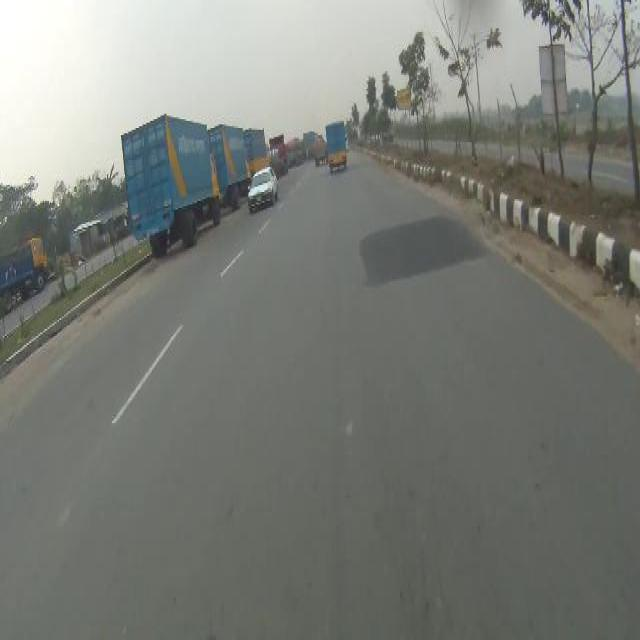car: (248, 168, 276, 212), (345, 134, 347, 150)
pickup: (122, 116, 222, 250), (211, 125, 249, 209), (325, 121, 345, 171)
truck: (1, 239, 49, 312), (286, 138, 302, 164)
